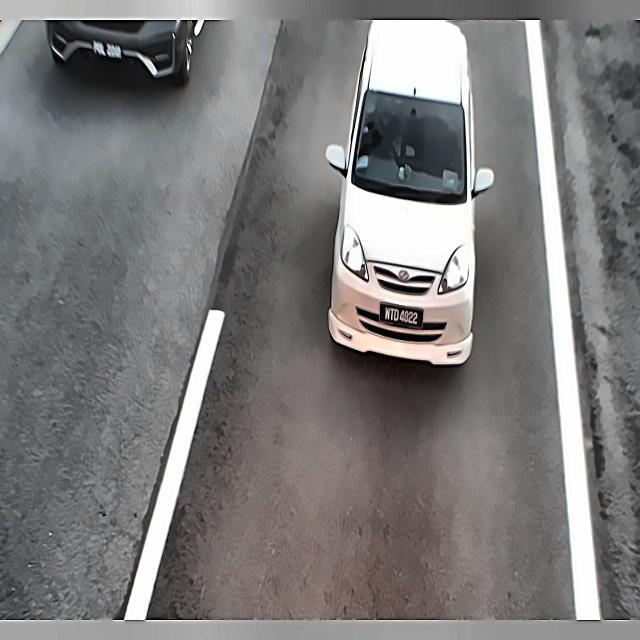car: (377, 294, 423, 339), (86, 32, 127, 64)
